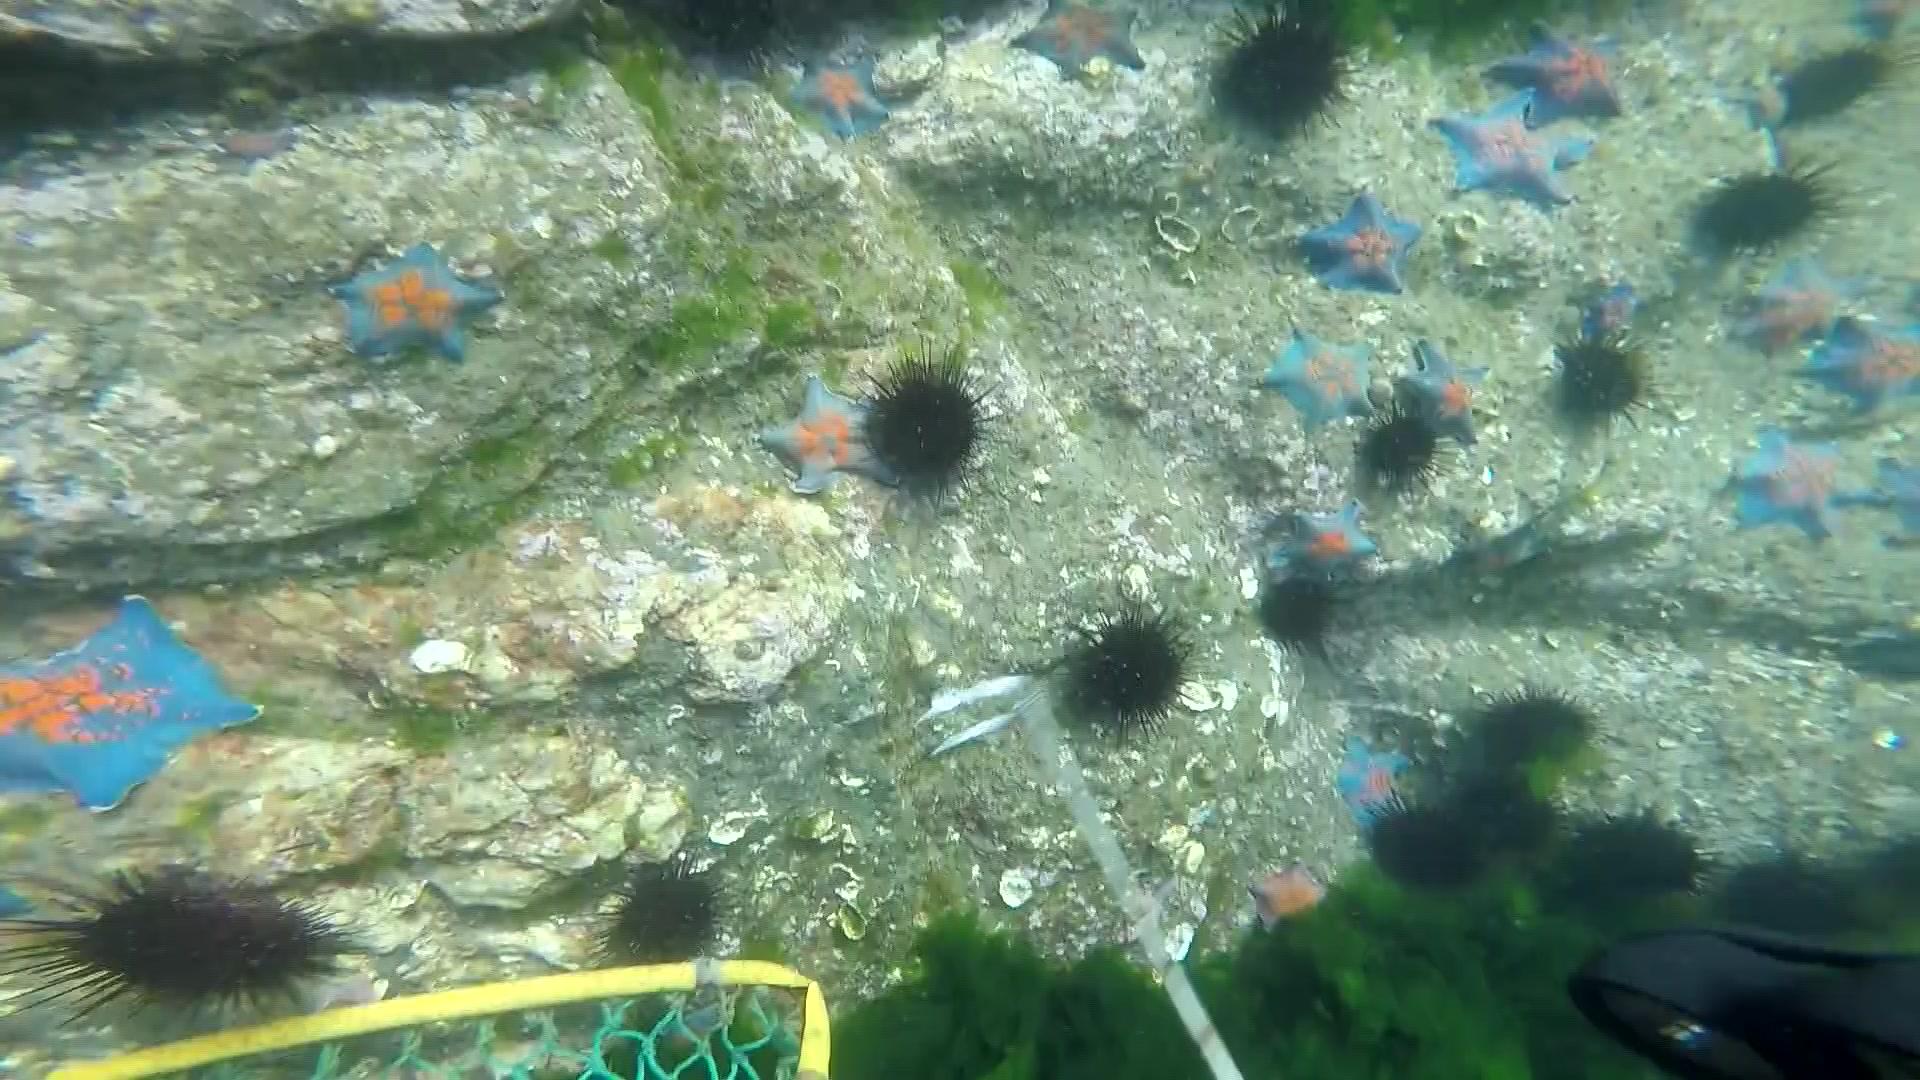echinus: (3, 847, 348, 1029), (858, 339, 992, 496), (1209, 1, 1352, 146), (1545, 810, 1726, 923), (1065, 596, 1200, 741), (575, 855, 732, 975), (1698, 156, 1859, 268), (1545, 328, 1677, 447), (1726, 847, 1878, 949), (1440, 753, 1555, 869), (1346, 785, 1462, 891), (1764, 38, 1896, 128), (1481, 684, 1598, 777), (1250, 566, 1338, 661), (1352, 409, 1449, 492), (688, 1, 793, 73)
starfish: (1, 603, 266, 814), (1425, 88, 1606, 219), (327, 236, 501, 355), (1726, 415, 1876, 543), (758, 365, 898, 496), (1477, 18, 1629, 119), (1734, 258, 1874, 365), (1246, 322, 1371, 429), (1302, 189, 1424, 290), (1799, 309, 1920, 410), (781, 54, 895, 152), (1011, 1, 1146, 82), (1323, 733, 1418, 837), (1267, 498, 1374, 574), (1840, 456, 1920, 543), (1250, 866, 1338, 932), (1565, 276, 1648, 338), (1725, 65, 1785, 128), (214, 124, 290, 167)
